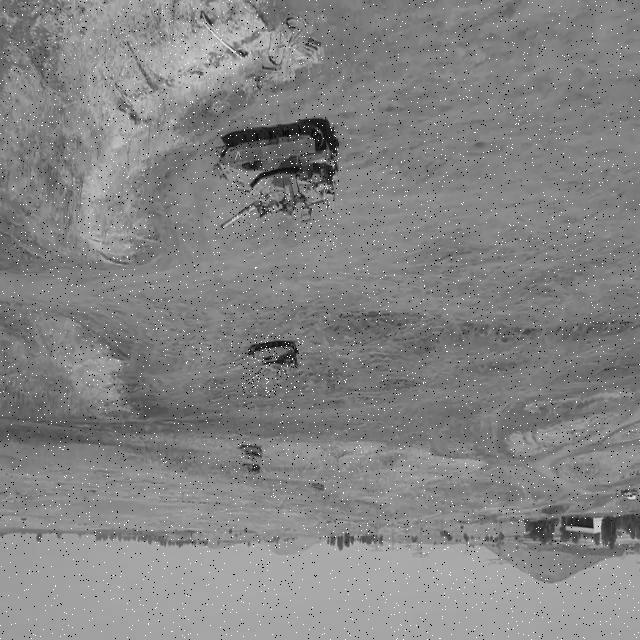MIL_MBT: (211, 121, 339, 239), (238, 334, 306, 396), (305, 476, 327, 508), (238, 444, 264, 465), (245, 466, 261, 481)
